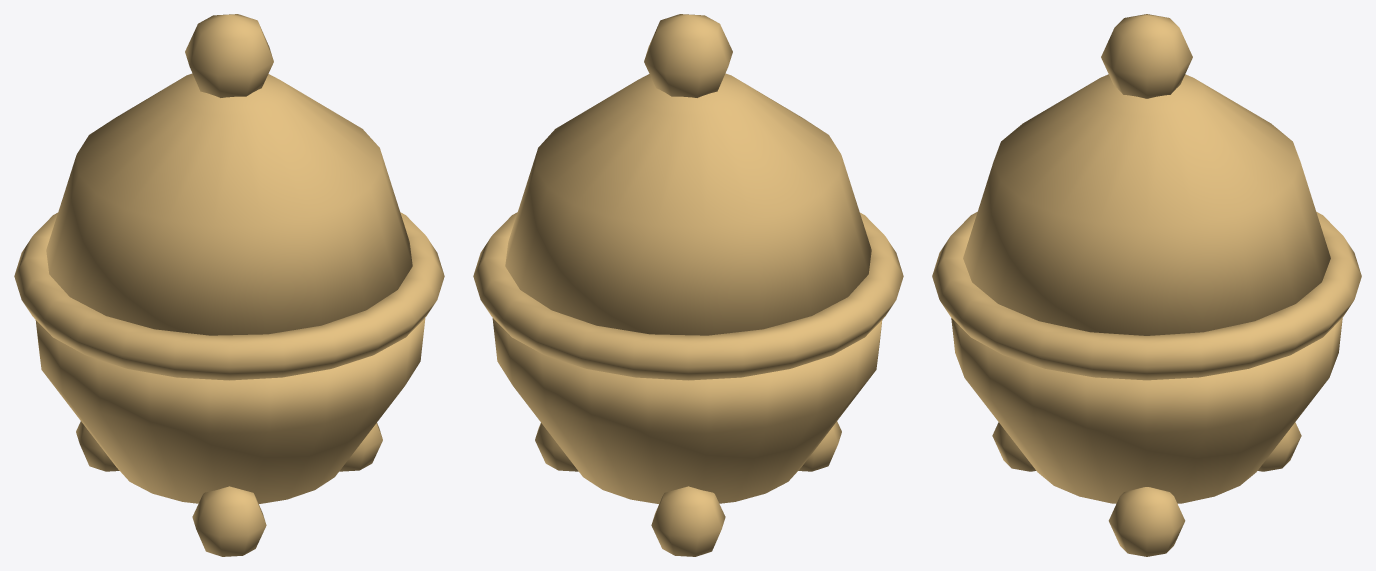
The model's file is Incense_Burner.fbx.
3 views of the same model, side by side, from view 1: azimuth 30°, elevation 25°; view 2: azimuth 150°, elevation 25°; view 3: azimuth 270°, elevation 25° (orthographic).
Parts seen in each view (by area): view 1: Incense_Burner_Mesh; view 2: Incense_Burner_Mesh; view 3: Incense_Burner_Mesh.
Boxes of the visible parts, x1,y1,x2,y2 form: Incense_Burner_Mesh: [14, 14, 444, 556]; Incense_Burner_Mesh: [473, 14, 903, 556]; Incense_Burner_Mesh: [932, 14, 1361, 556].
Bounding box in the file's own units: 0.112 × 0.139 × 0.112.
